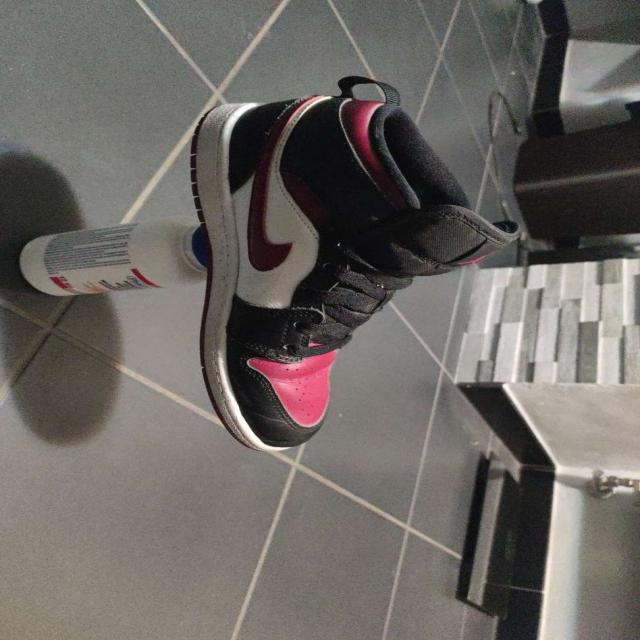shoe: (190, 90, 524, 456)
